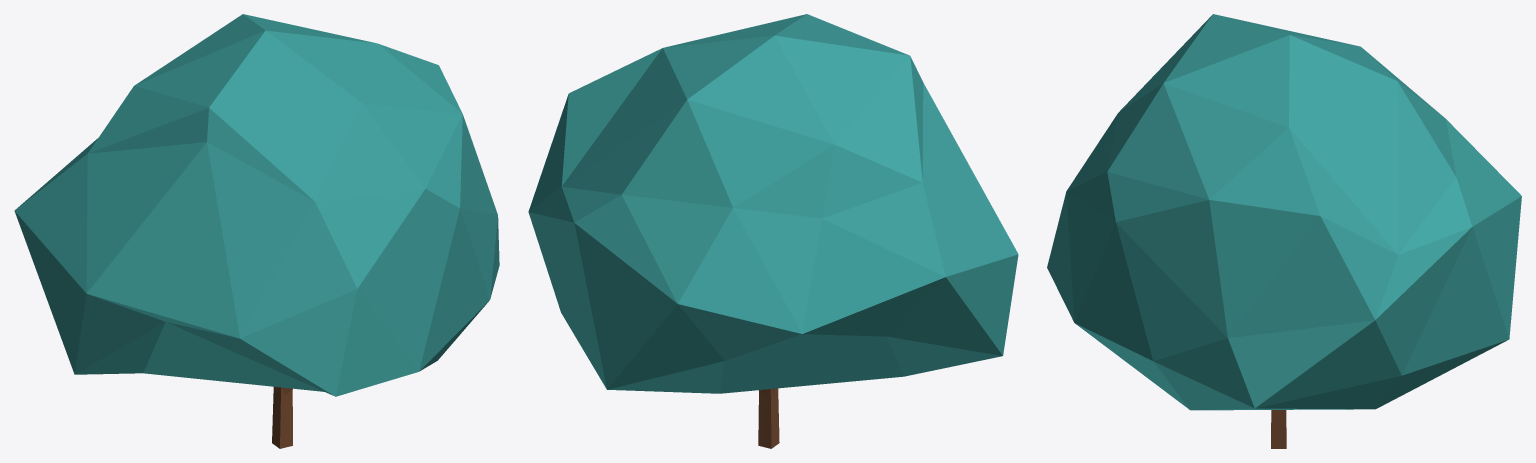
File: Tree_18_Blue.fbx
3 renders of one model, left to right at view 1: azimuth 30°, elevation 25°; view 2: azimuth 150°, elevation 25°; view 3: azimuth 270°, elevation 25°, orthographic. The views are drawn at different scales.
Visible parts, largest first — view 1: Tree_18_Blue_Part_1, Tree_18_Blue_Part_2; view 2: Tree_18_Blue_Part_1, Tree_18_Blue_Part_2; view 3: Tree_18_Blue_Part_1, Tree_18_Blue_Part_2.
Boxes of the visible parts, bbox=[...] form: Tree_18_Blue_Part_1: bbox=[14, 14, 499, 396]; Tree_18_Blue_Part_2: bbox=[272, 386, 292, 448]; Tree_18_Blue_Part_1: bbox=[528, 14, 1018, 393]; Tree_18_Blue_Part_2: bbox=[758, 388, 779, 448]; Tree_18_Blue_Part_1: bbox=[1047, 14, 1521, 410]; Tree_18_Blue_Part_2: bbox=[1271, 410, 1286, 448].
Bounding box in the file's own units: 804 × 743 × 788.
